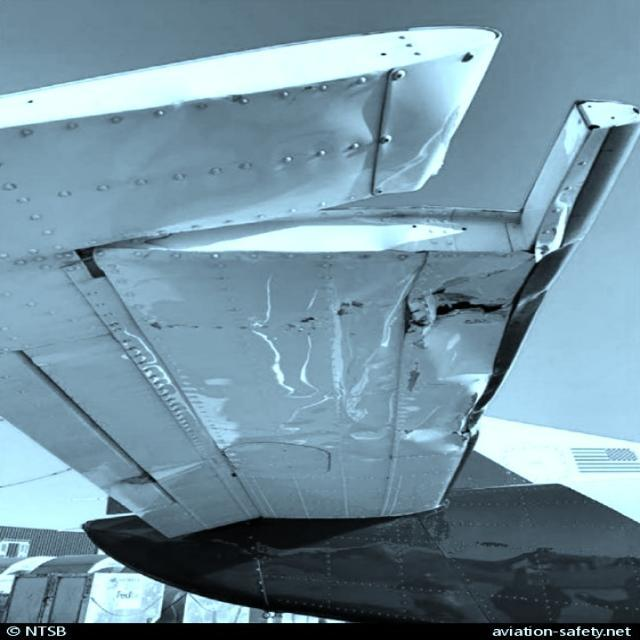dent: (401, 396, 467, 455)
